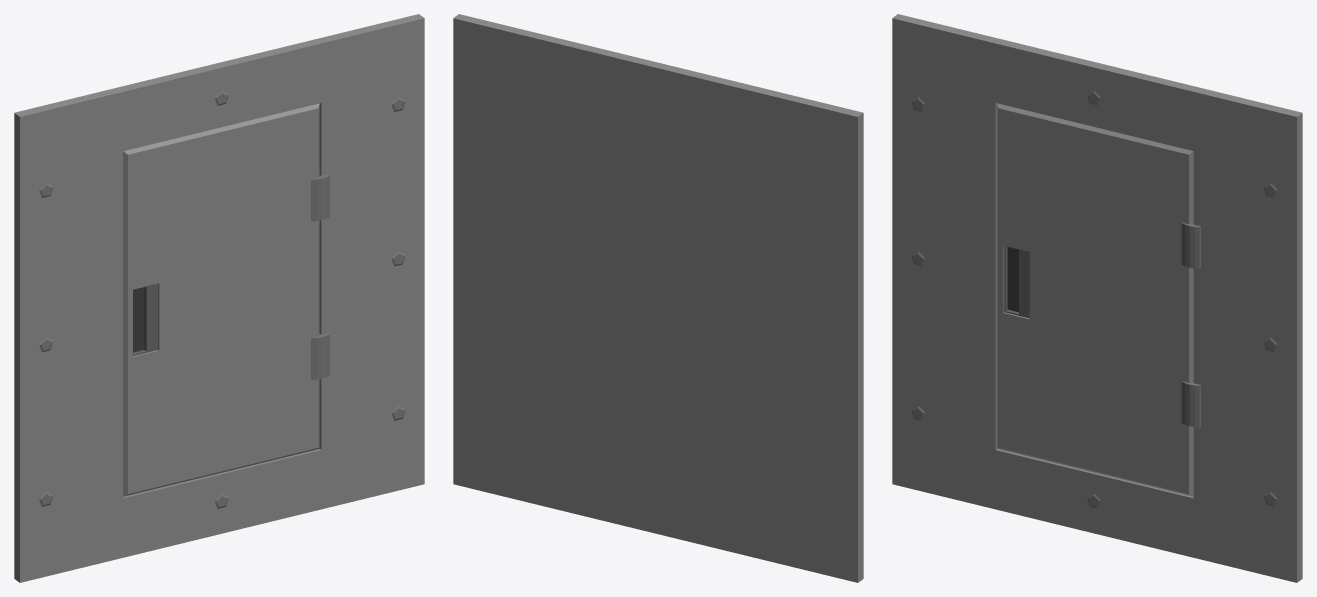
File: Int_ElectroPanel01.fbx
3 renders of one model, left to right at view 1: azimuth 30°, elevation 25°; view 2: azimuth 150°, elevation 25°; view 3: azimuth 330°, elevation 25°, orthographic.
Visible parts, largest first — view 1: Int_ElectroPanel01; view 2: Int_ElectroPanel01; view 3: Int_ElectroPanel01.
Part boxes in pixels (x1,y1,x2,y2): Int_ElectroPanel01: (14,14,424,582); Int_ElectroPanel01: (453,14,863,582); Int_ElectroPanel01: (892,14,1302,582).
Size of what is drawn, in the model's own units: 100 by 3.57 by 110.
